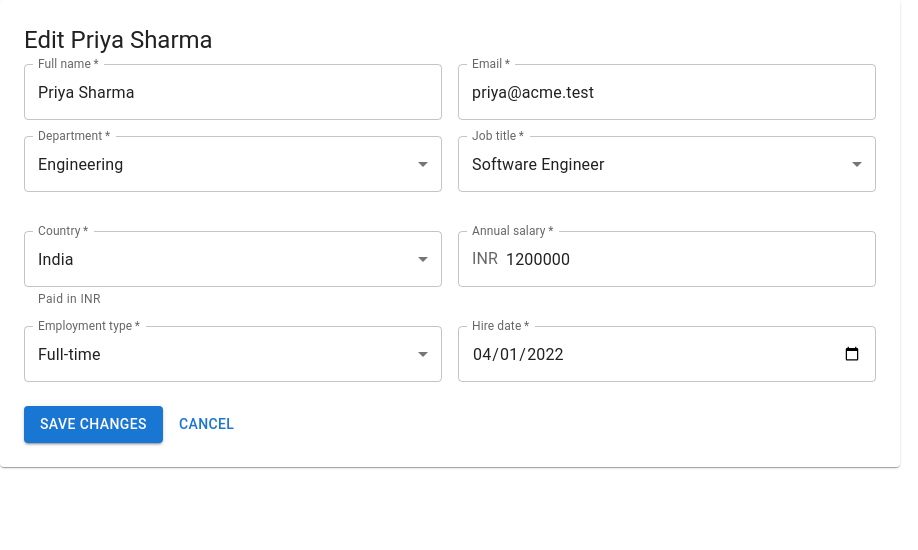
Test case: EmployeeFormPage › asks for the salary in the new currency when the country changes
Click the dropdown named "country".
click(56, 259)  # box [38,250,74,269]
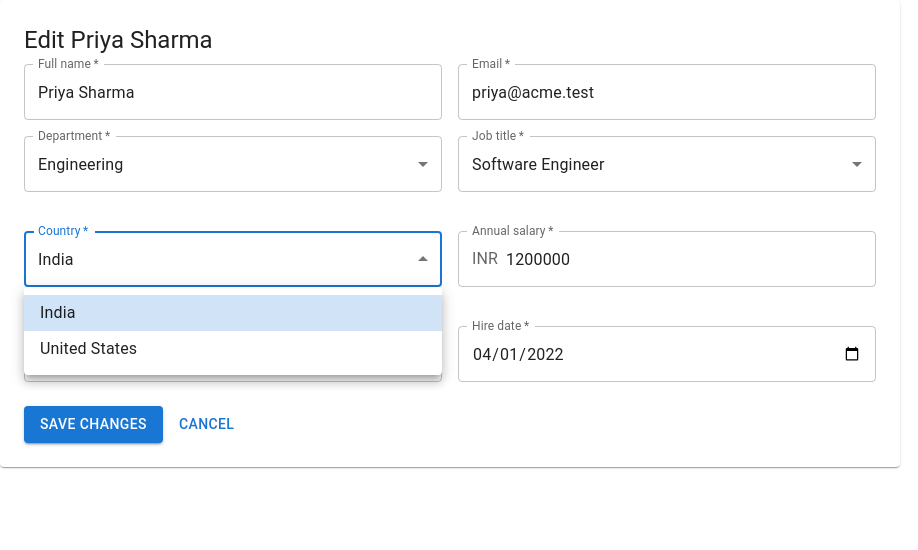
Click the option "United States".
click(89, 348)  # box [40,339,137,358]
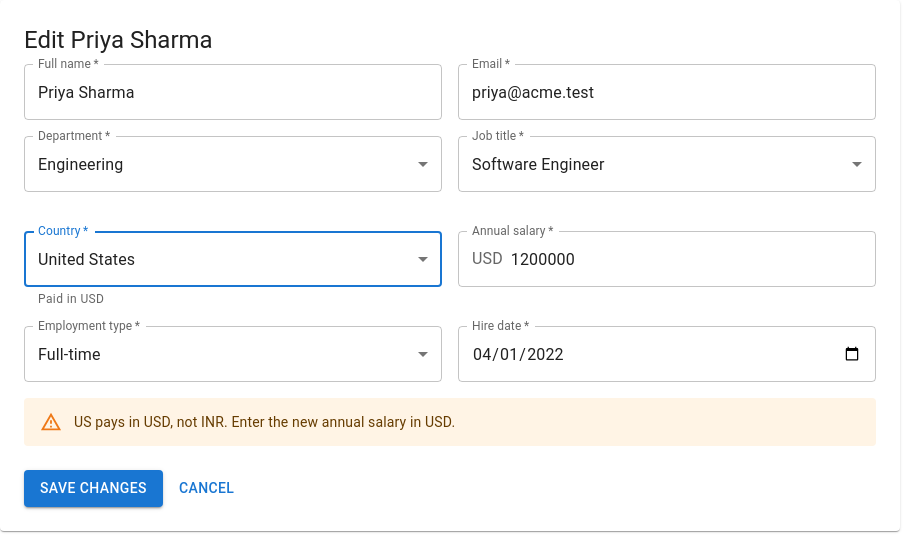
Expected: the text "US pays in USD, not INR. Enter the new annual salary in USD." is shown, [74,414,455,430]
